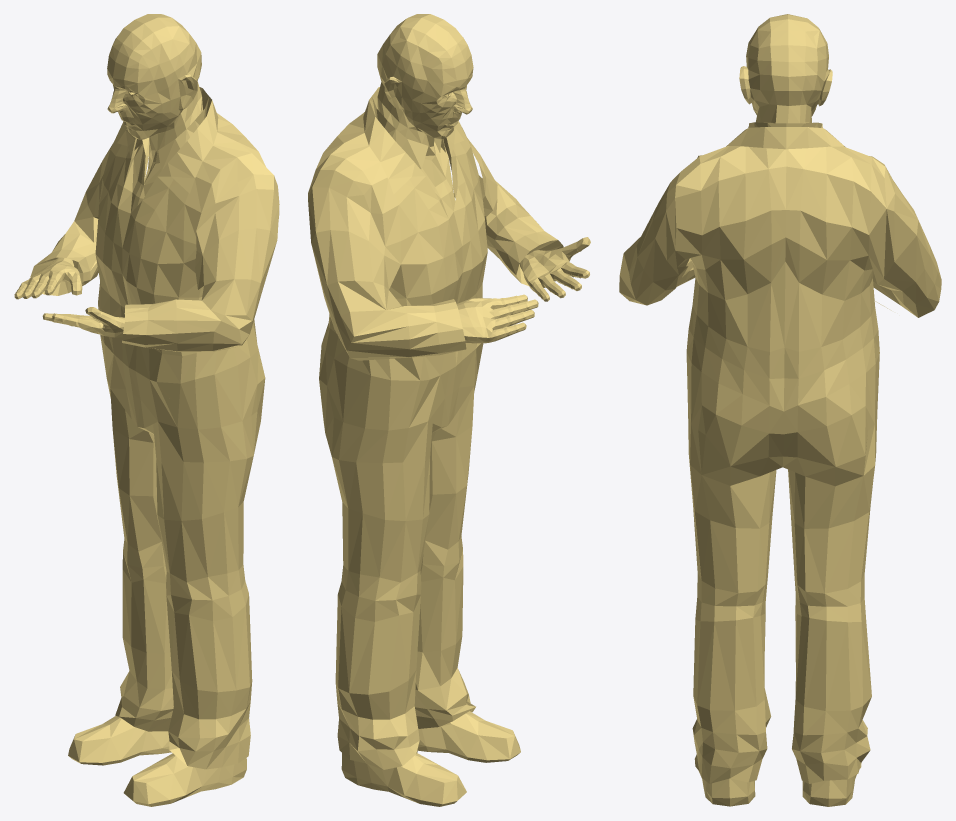
Rendered from worker_candidate_3.glb.
3 views of the same model, side by side, from view 1: azimuth 30°, elevation 25°; view 2: azimuth 150°, elevation 25°; view 3: azimuth 270°, elevation 25° (orthographic). The views are drawn at different scales.
Parts seen in each view (by area): view 1: world; view 2: world; view 3: world.
Part boxes in pixels (<box>): world: <box>14,14,279,806</box>; world: <box>308,14,590,806</box>; world: <box>619,14,941,806</box>.
Bounding box in the file's own units: 0.5515 × 1.79 × 0.6846.
